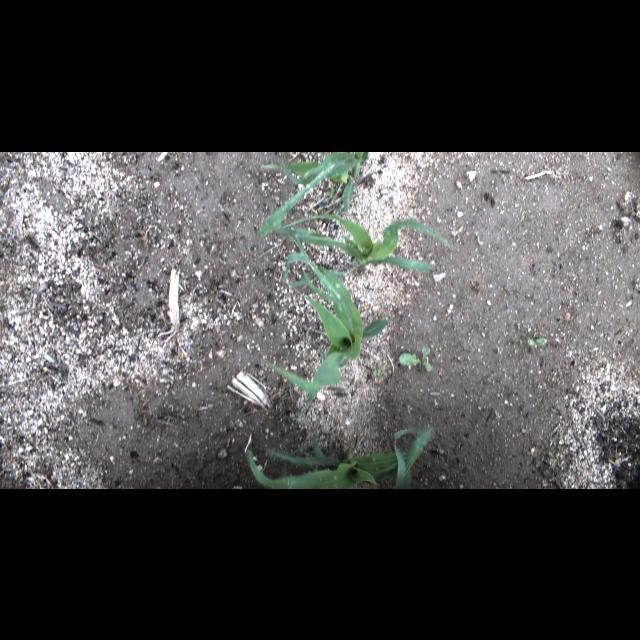crop: (264, 233, 390, 423), (274, 213, 454, 271), (257, 152, 369, 238), (248, 432, 408, 488), (394, 427, 434, 488)
weed: (399, 346, 433, 372), (322, 185, 336, 201), (526, 336, 548, 344), (372, 362, 380, 378)
